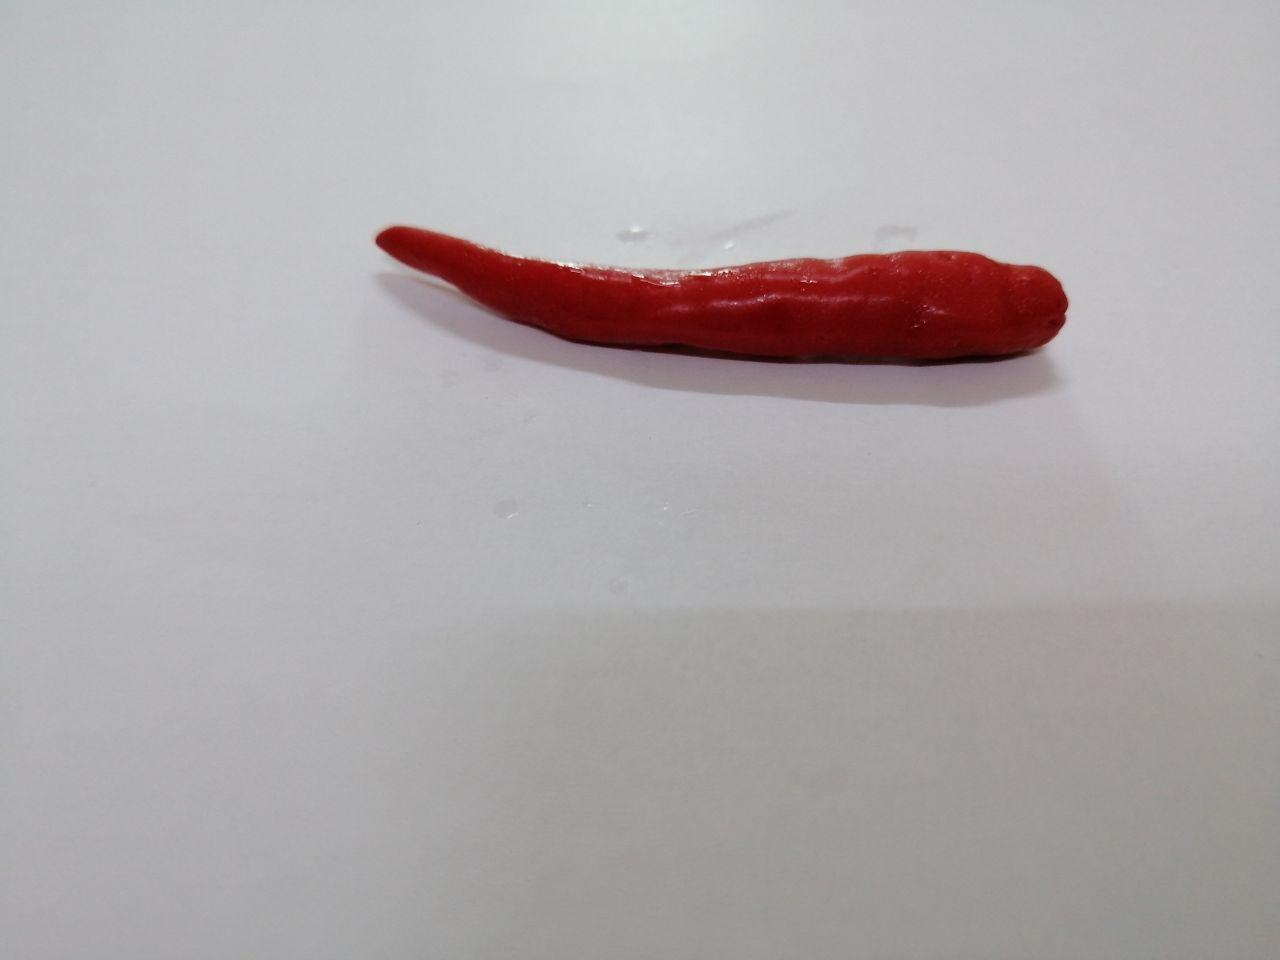lada merah: (358, 193, 1099, 409)
